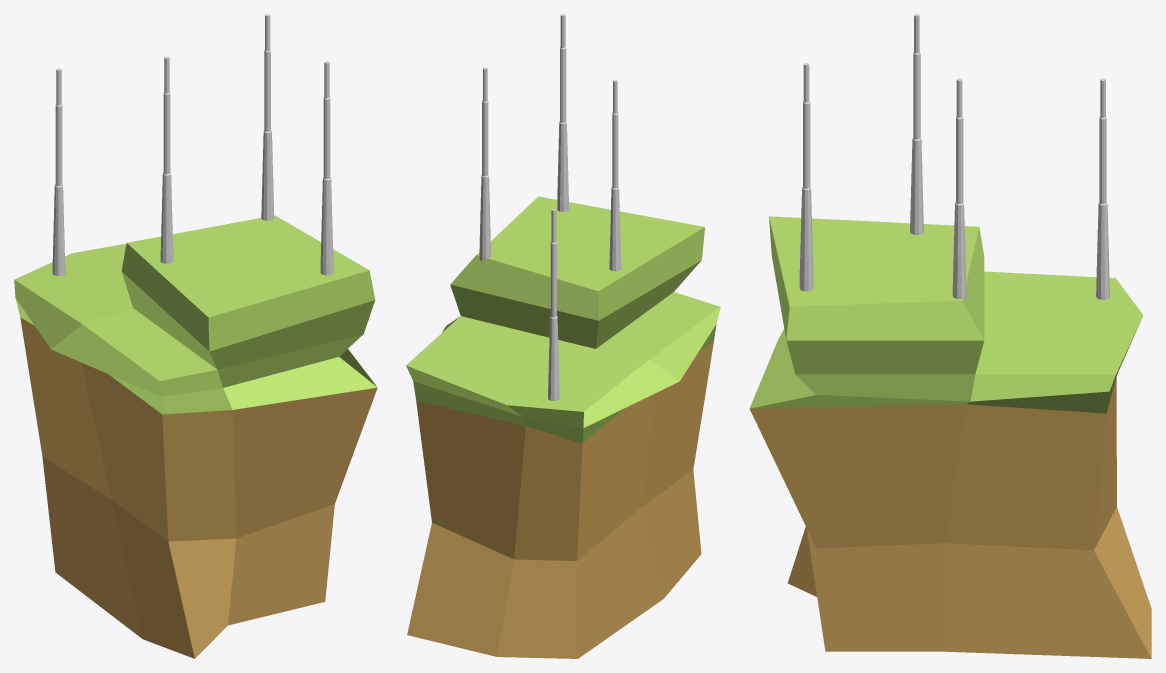
The model's file is Side_Terrain_2.fbx.
3 views of the same model, side by side, from view 1: azimuth 30°, elevation 25°; view 2: azimuth 150°, elevation 25°; view 3: azimuth 270°, elevation 25° (orthographic). The views are drawn at different scales.
Visible parts, largest first — view 1: Side_Terrain_2; view 2: Side_Terrain_2; view 3: Side_Terrain_2.
Boxes of the visible parts, x1,y1,x2,y2 form: Side_Terrain_2: [14, 14, 377, 658]; Side_Terrain_2: [406, 14, 720, 658]; Side_Terrain_2: [749, 14, 1151, 658].
Size of the model in its own units: 515 by 1116 by 671.
